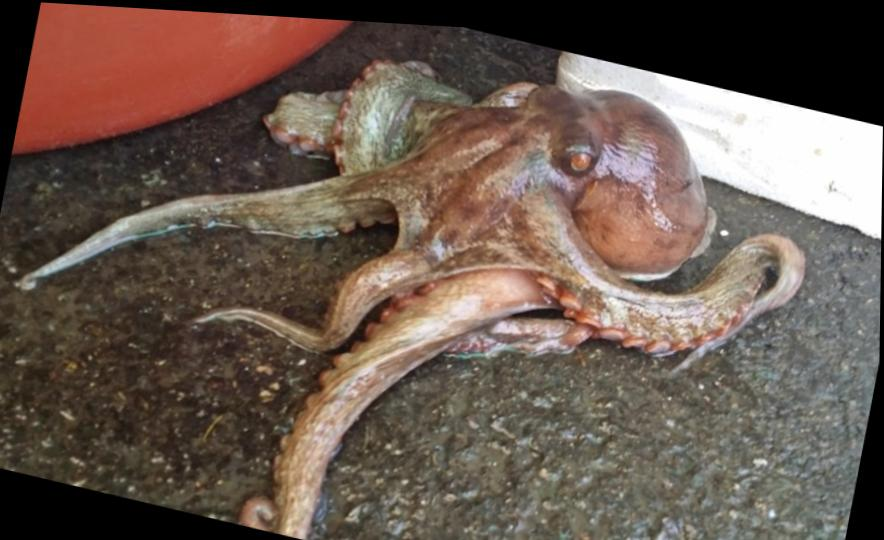Cephalopod: (17, 56, 810, 537)
